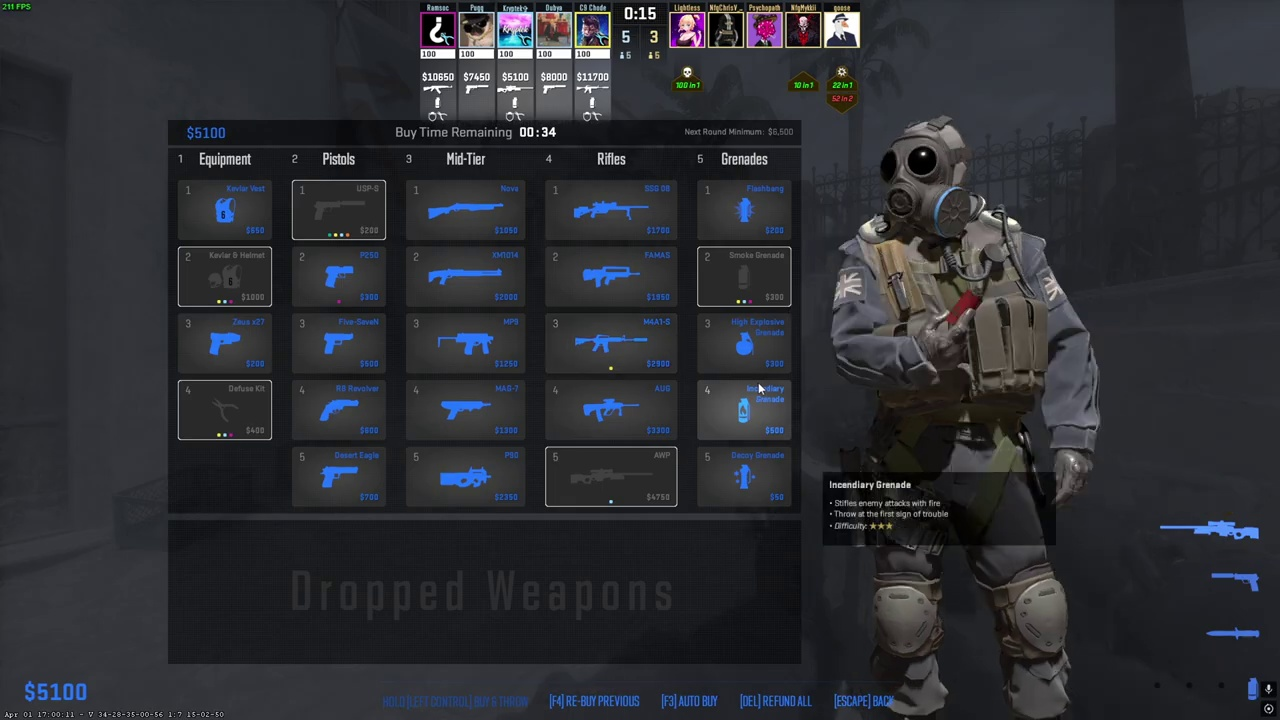CT: (855, 123, 1075, 720)
